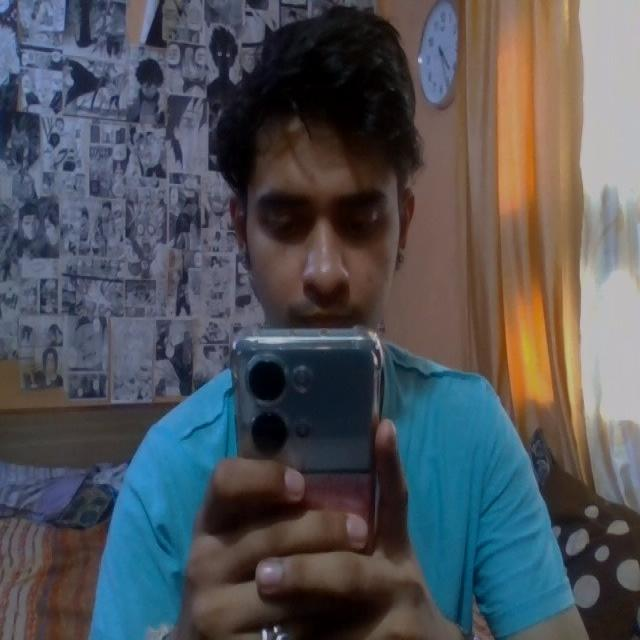phone: (232, 332, 384, 568)
using-phone: (91, 11, 589, 640)
